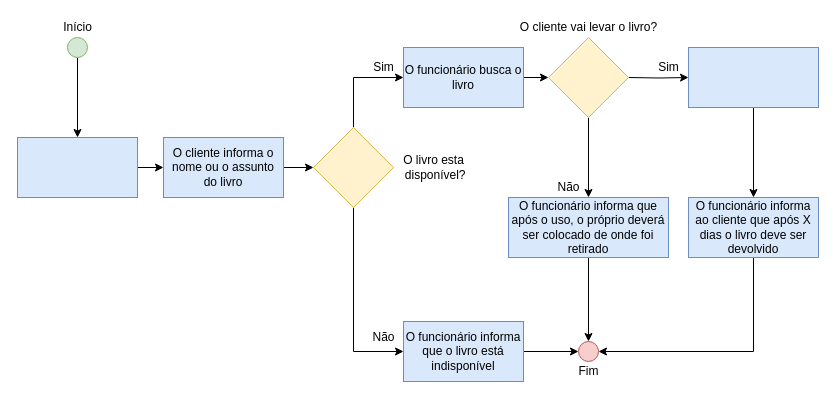
Image size: 836x399. Some labels were removed from this diagram. The shapes that lost their labels are listed below. From the top down, each one's centre as x and y in pixels, then its label:
At (x=753, y=77): "O funcionário faz o registro do empréstimo em uma planilha no excel".
At (x=77, y=167): "Cliente chega a biblioteca e se dirige ate o balcão".
